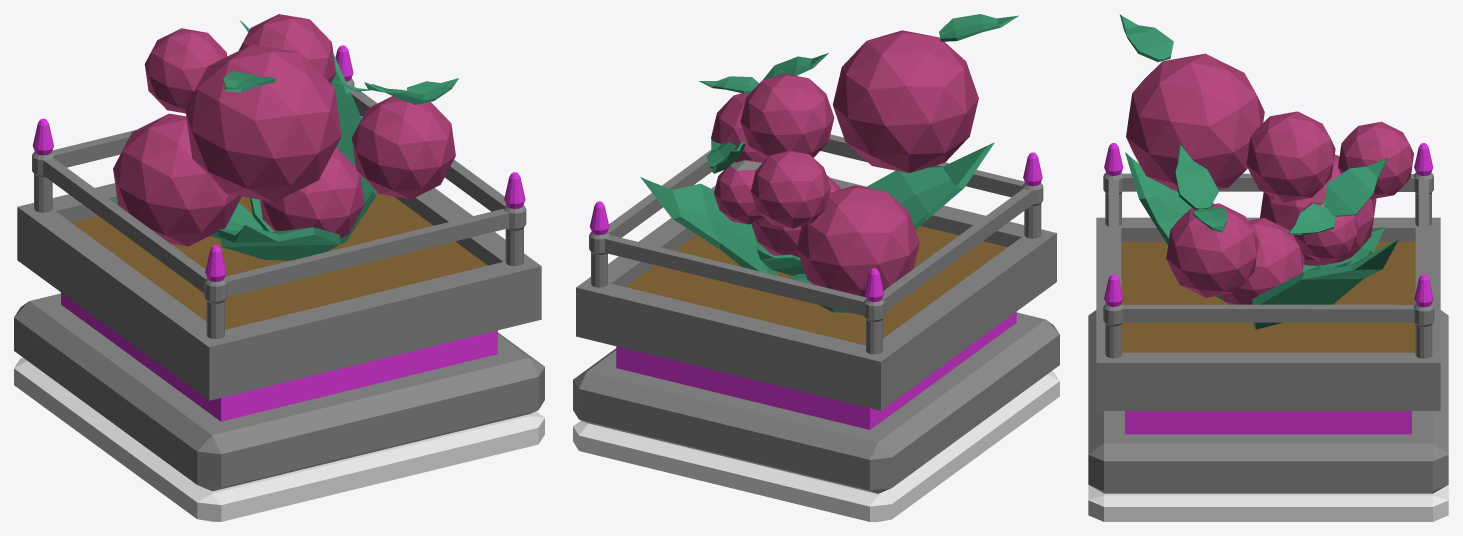
File: food.fbx
3 renders of one model, left to right at view 1: azimuth 30°, elevation 25°; view 2: azimuth 150°, elevation 25°; view 3: azimuth 270°, elevation 25°, orthographic. The views are drawn at different scales.
Parts seen in each view (by area): view 1: Food, Base; view 2: Food, Base; view 3: Food, Base.
Part boxes in pixels (x1,y1,x2,y2): Food: (14, 14, 544, 491); Base: (14, 357, 544, 521); Food: (573, 14, 1059, 493); Base: (573, 371, 1059, 521); Food: (1088, 14, 1448, 493); Base: (1088, 485, 1448, 521).
Size of the model in its own units: 200 by 231 by 200.
